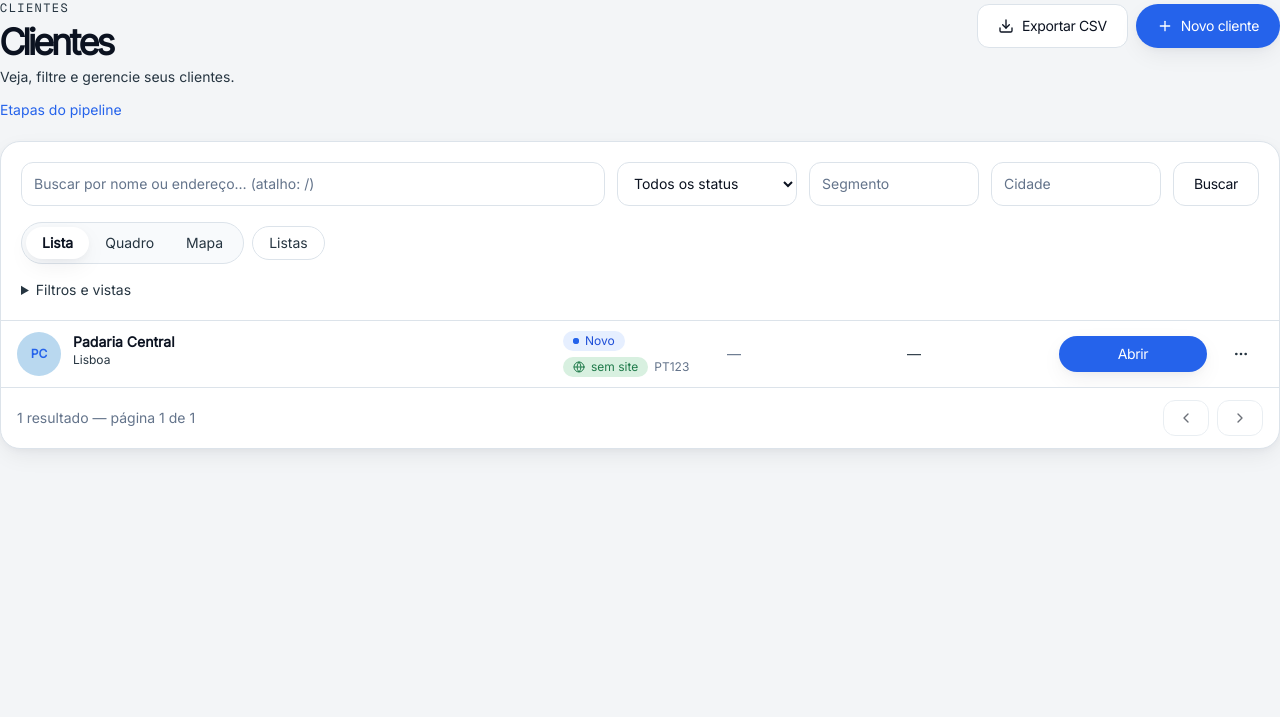
Test case: LeadsPage saved views › keeps an archived custom field column already on a Vista
The image size is (1280, 717).
Click the heading "Filtros e vistas" at (83, 289), box [36,281,131,298]
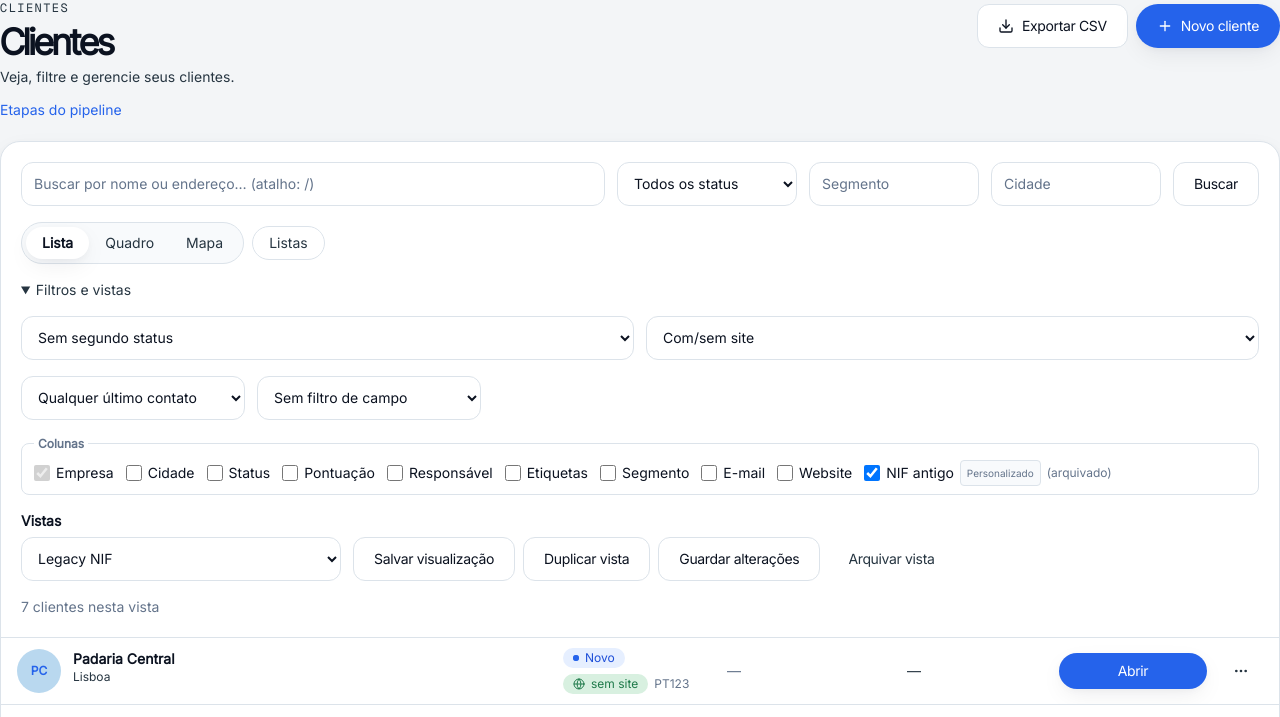
Expected: the text "PT123" is shown, [654,676,689,691]
Now the checkbox labelled "NIF antigo Personalizado (arquivado)" is checked, box [864,465,880,481]
